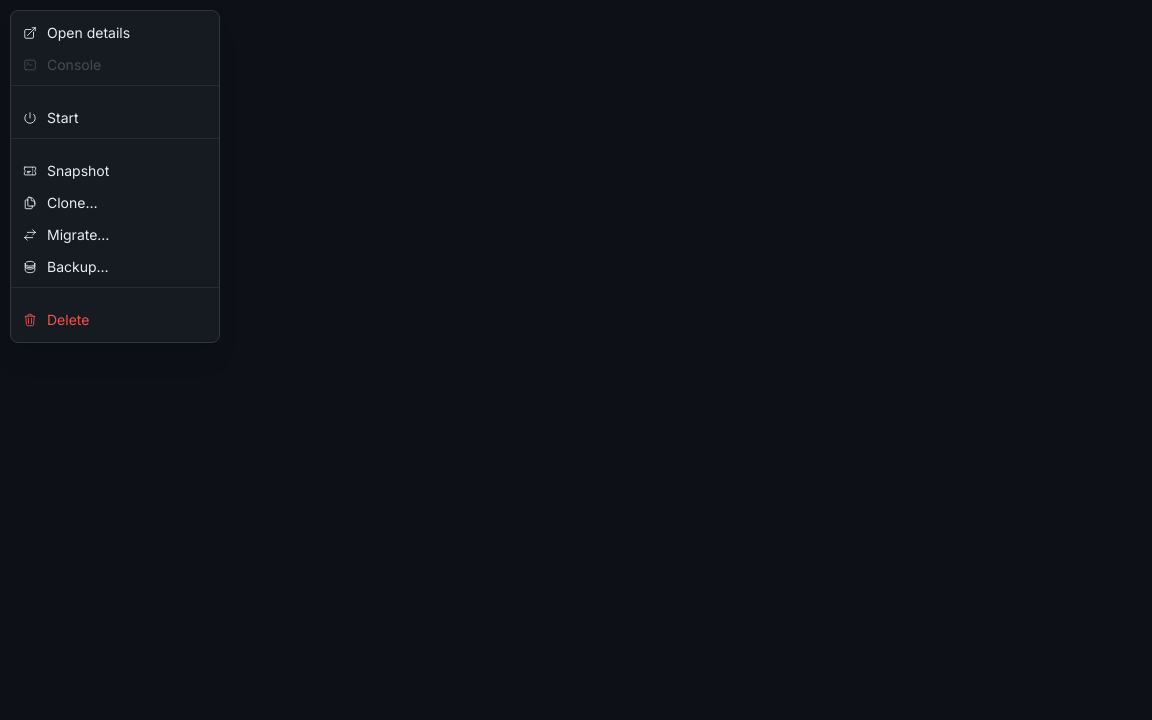
Test case: ResourceContextMenu (StrictMode=true) › VM clone opens its modal
The image size is (1152, 720).
Click the menu item "Clone…".
click(115, 203)  # box [11,187,219,219]
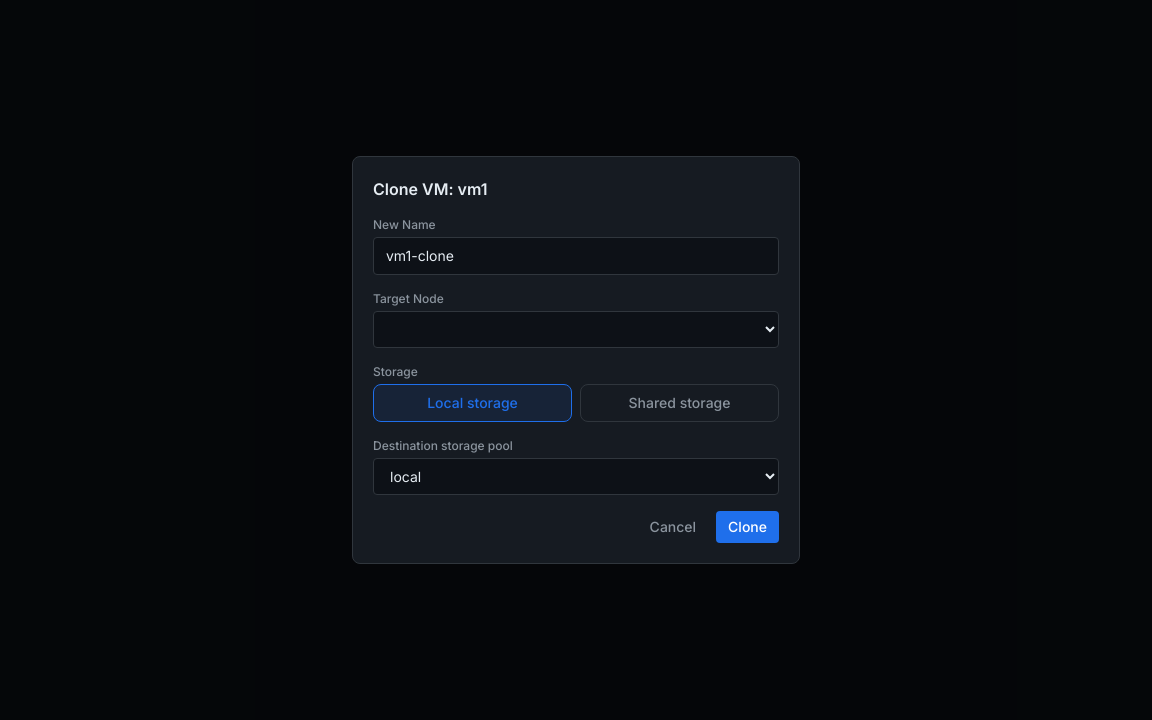
Check: the heading "Clone VM: vm1" is shown, box [373,179,488,199]
